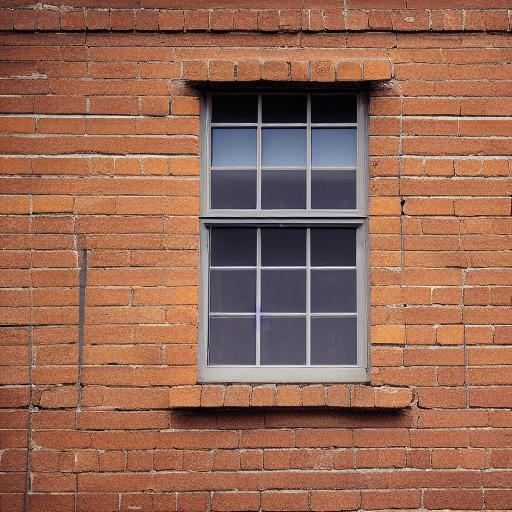Window: (169, 59, 416, 413)
